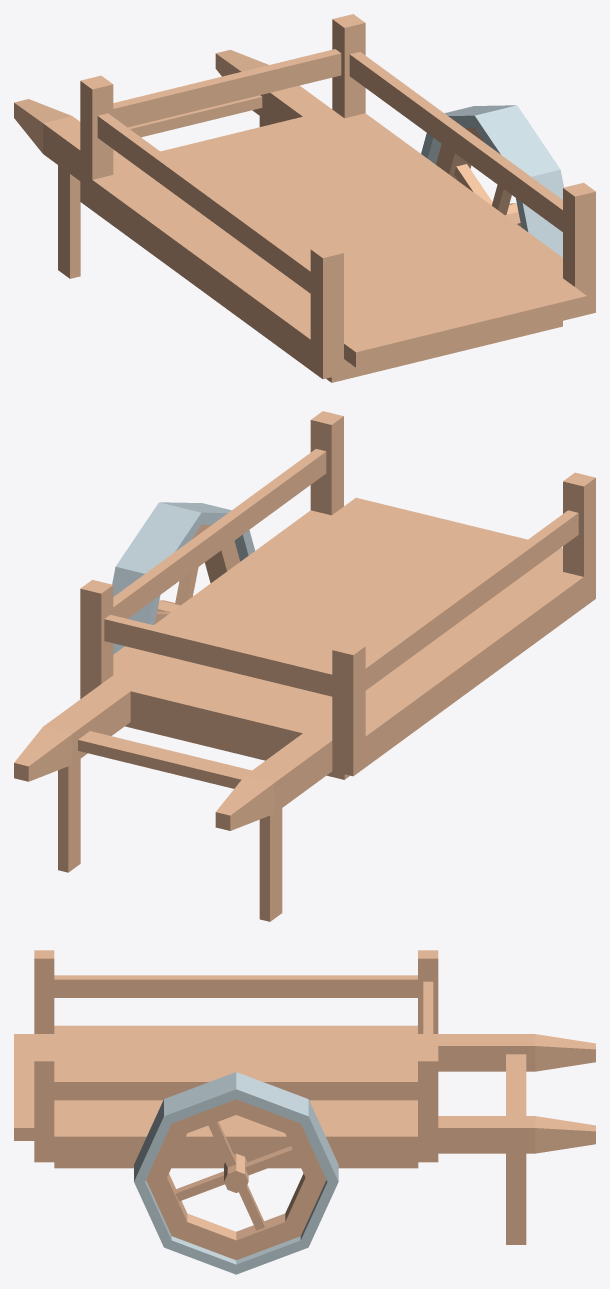
Rendered from cart.fbx.
3 views of the same model, one above another, from view 1: azimuth 30°, elevation 25°; view 2: azimuth 150°, elevation 25°; view 3: azimuth 270°, elevation 25° (orthographic). The views are drawn at different scales.
Visible parts, largest first — view 1: cart, wheel.001; view 2: cart, wheel.001; view 3: cart, wheel.001.
Part boxes in pixels (x1,y1,x2,y2): cart: (14, 14, 595, 382); wheel.001: (421, 105, 563, 257); cart: (14, 411, 595, 921); wheel.001: (112, 502, 254, 654); cart: (14, 950, 595, 1244); wheel.001: (134, 1072, 338, 1274).
Bounding box in the file's own units: 75.13 × 53.55 × 144.
